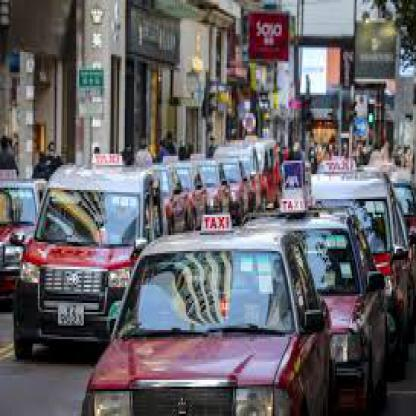taxi: (81, 214, 340, 415)
